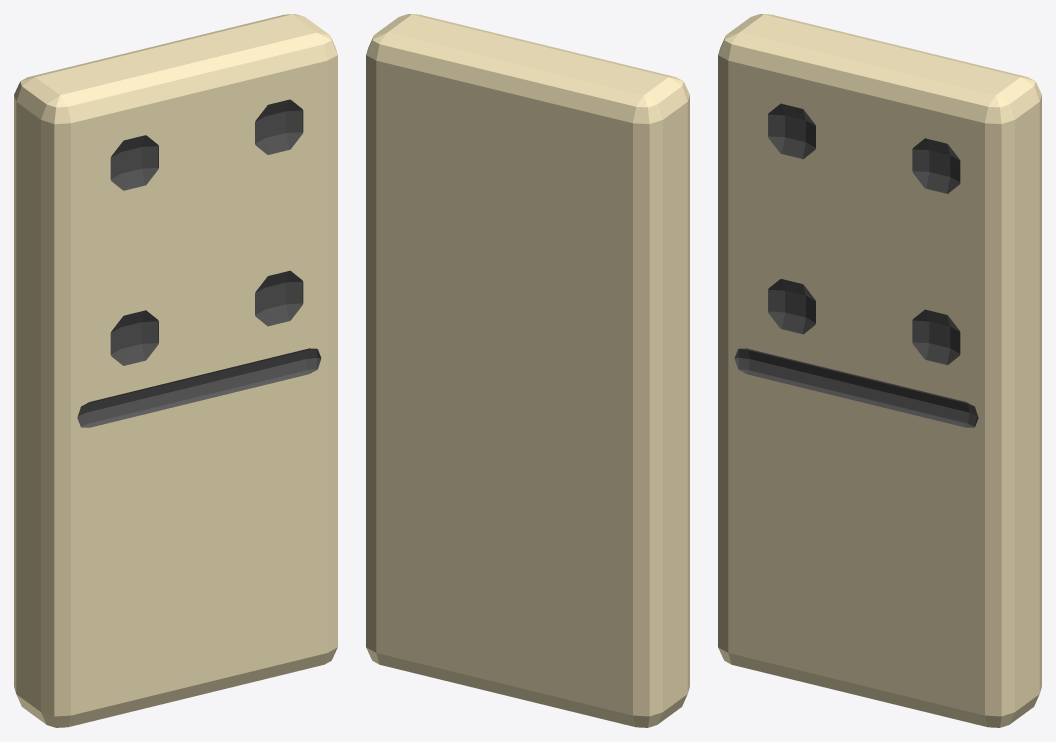
File: dominoes 4x0.fbx
The picture shows the model from 3 angles, left to right: view 1: azimuth 30°, elevation 25°; view 2: azimuth 150°, elevation 25°; view 3: azimuth 330°, elevation 25°; orthographic projection.
Parts seen in each view (by area): view 1: Boole_21; view 2: Boole_21; view 3: Boole_21.
Boxes of the visible parts, box(x1,y1,x2,y2) form: Boole_21: box(14, 14, 337, 727); Boole_21: box(366, 14, 689, 727); Boole_21: box(718, 14, 1041, 727).
Size of the model in its own units: 200 by 410 by 55.02.
